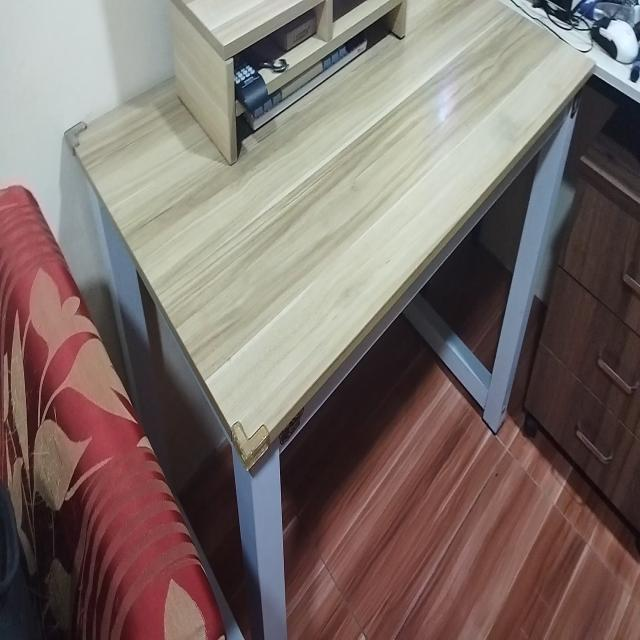table: (59, 0, 593, 640)
